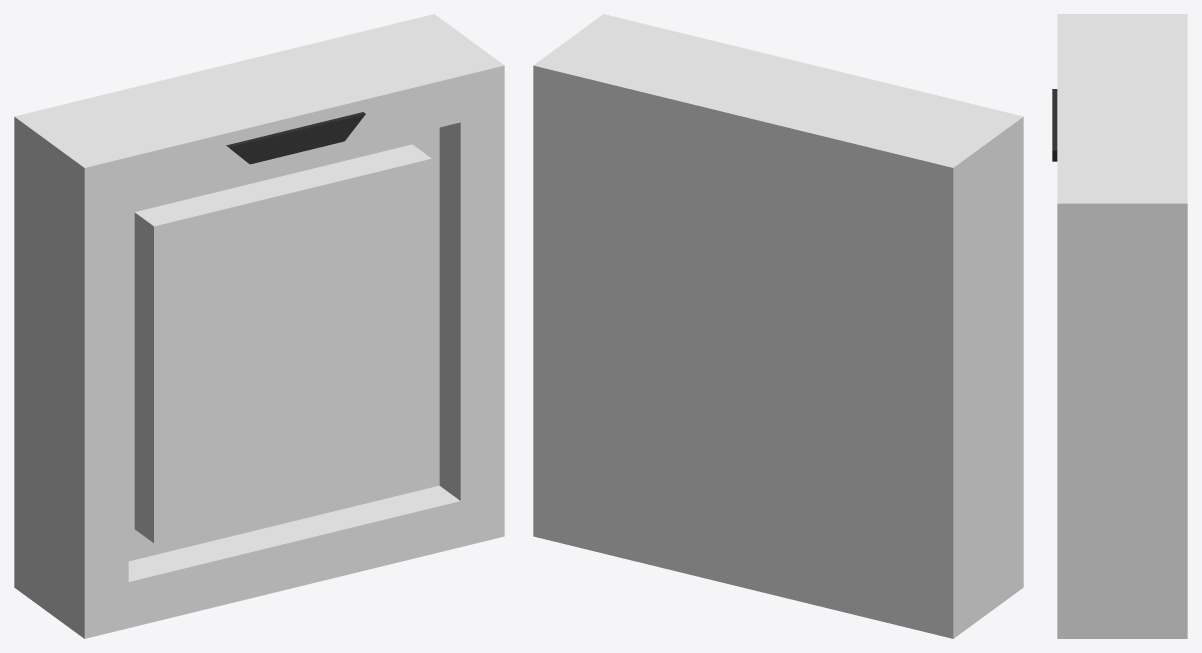
Rendered from panel_a.fbx.
The picture shows the model from 3 angles, left to right: view 1: azimuth 30°, elevation 25°; view 2: azimuth 150°, elevation 25°; view 3: azimuth 270°, elevation 25°; orthographic projection. The views are drawn at different scales.
Parts seen in each view (by area): view 1: panel_a; view 2: panel_a; view 3: panel_a.
Boxes of the visible parts, x1,y1,x2,y2 form: panel_a: (14,14,504,638); panel_a: (533,14,1023,638); panel_a: (1052,14,1187,638).
Bounding box in the file's own units: 0.186 × 0.1992 × 0.056.
